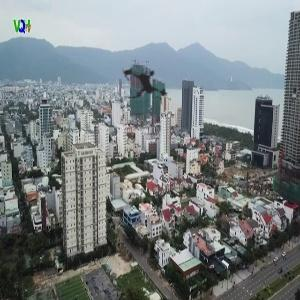drone: (98, 37, 195, 134)
